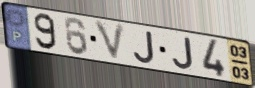4: (201, 37, 227, 79)
6: (63, 16, 90, 57)
9: (33, 12, 58, 51)
J: (132, 29, 157, 65), (171, 36, 196, 71)
V: (92, 19, 128, 64)
